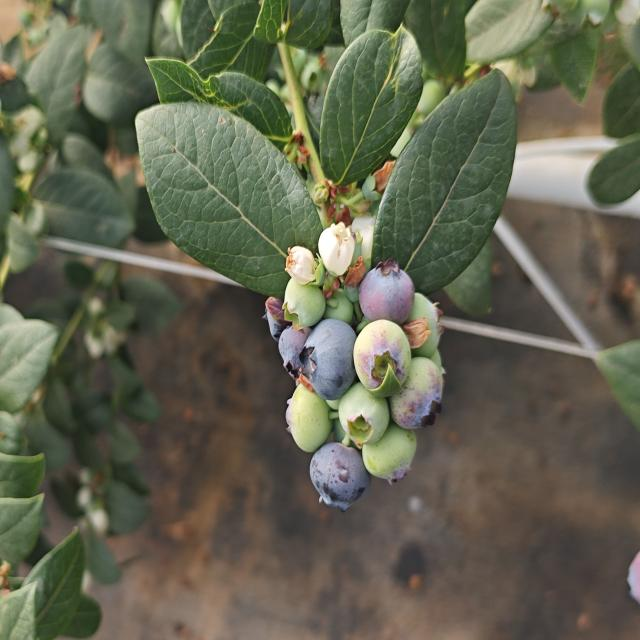ripe: (298, 316, 358, 404), (265, 288, 317, 384), (307, 440, 371, 514), (356, 257, 416, 326)
